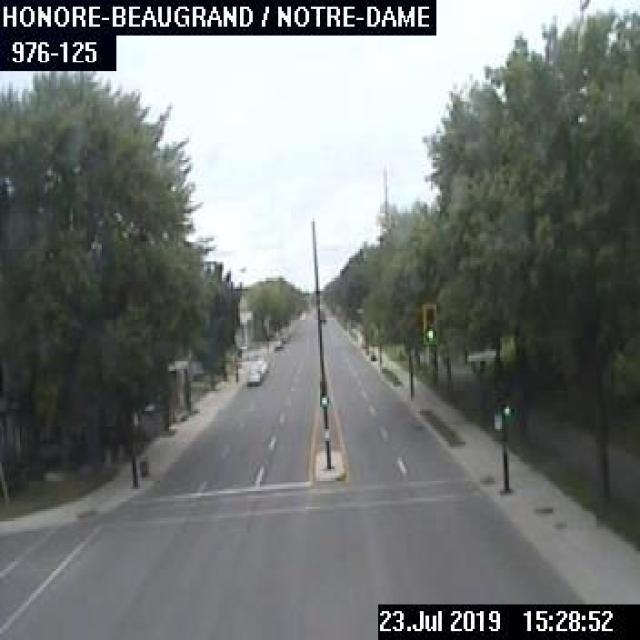vehicle: (244, 366, 260, 384)
